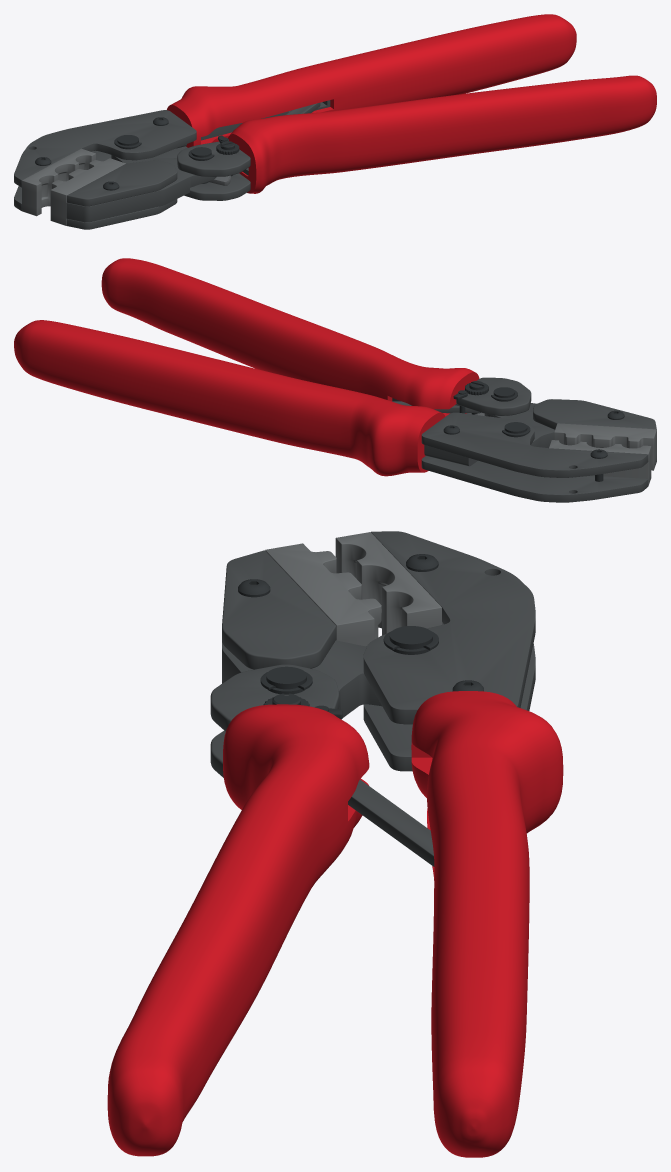
3 views of the same model, one above another, from view 1: azimuth 30°, elevation 25°; view 2: azimuth 150°, elevation 25°; view 3: azimuth 270°, elevation 25° (orthographic). The views are drawn at different scales.
Parts seen in each view (by area): view 1: Lower red grip sleeve, Upper red grip sleeve, Upper head front plate, Moving jaw front cheek, Moving jaw pivot web, Fixed three-profile die, Opposed three-profile punch, Lower compound lever front, Lower compound lever rear, Moving jaw rear cheek, Upper head rear plate, Upper continuous handle tang; view 2: Upper red grip sleeve, Lower red grip sleeve, Upper head front plate, Upper head rear plate, Moving jaw front cheek, Opposed three-profile punch, Lower compound lever front, Fixed three-profile die, Moving jaw pivot web, Upper continuous handle tang; view 3: Lower red grip sleeve, Upper red grip sleeve, Upper head front plate, Moving jaw front cheek, Fixed three-profile die, Opposed three-profile punch, Lower compound lever front, Moving jaw pivot web, Exposed toggle link, Upper head rear plate, Main jaw pivot spindle, Compound handle pivot spindle.
Boxes of the visible parts, <box> form: Lower red grip sleeve: <box>228,75,656,193</box>; Upper red grip sleeve: <box>167,14,576,147</box>; Upper head front plate: <box>14,110,196,187</box>; Moving jaw front cheek: <box>67,160,177,206</box>; Moving jaw pivot web: <box>66,155,216,222</box>; Fixed three-profile die: <box>22,148,96,216</box>; Opposed three-profile punch: <box>50,158,125,225</box>; Lower compound lever front: <box>177,141,250,176</box>; Lower compound lever rear: <box>184,173,250,200</box>; Moving jaw rear cheek: <box>67,199,177,229</box>; Upper head rear plate: <box>14,146,187,210</box>; Upper continuous handle tang: <box>176,100,330,148</box>; Upper red grip sleeve: <box>14,320,445,476</box>; Lower red grip sleeve: <box>101,258,479,416</box>; Upper head front plate: <box>421,412,648,477</box>; Upper head rear plate: <box>421,456,648,502</box>; Moving jaw front cheek: <box>533,399,656,429</box>; Opposed three-profile punch: <box>554,423,656,470</box>; Lower compound lever front: <box>456,377,531,415</box>; Fixed three-profile die: <box>549,440,651,485</box>; Moving jaw pivot web: <box>484,403,554,448</box>; Upper continuous handle tang: <box>424,445,477,466</box>; Lower red grip sleeve: <box>107,704,369,1156</box>; Upper red grip sleeve: <box>411,691,563,1157</box>; Upper head front plate: <box>363,531,535,724</box>; Moving jaw front cheek: <box>222,550,336,669</box>; Fixed three-profile die: <box>335,532,441,635</box>; Opposed three-profile punch: <box>265,543,381,646</box>; Lower compound lever front: <box>210,664,339,731</box>; Moving jaw pivot web: <box>222,640,381,719</box>; Exposed toggle link: <box>348,779,434,866</box>; Upper head rear plate: <box>363,622,535,771</box>; Main jaw pivot spindle: <box>389,626,432,654</box>; Compound handle pivot spindle: <box>266,666,306,694</box>.
Size of the model in its own units: 0.2469 by 0.024 by 0.084.
